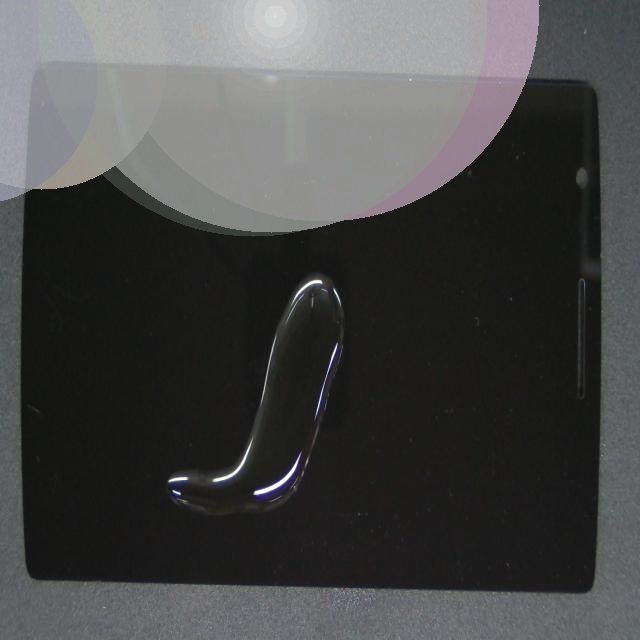oil: (133, 332, 476, 640)
